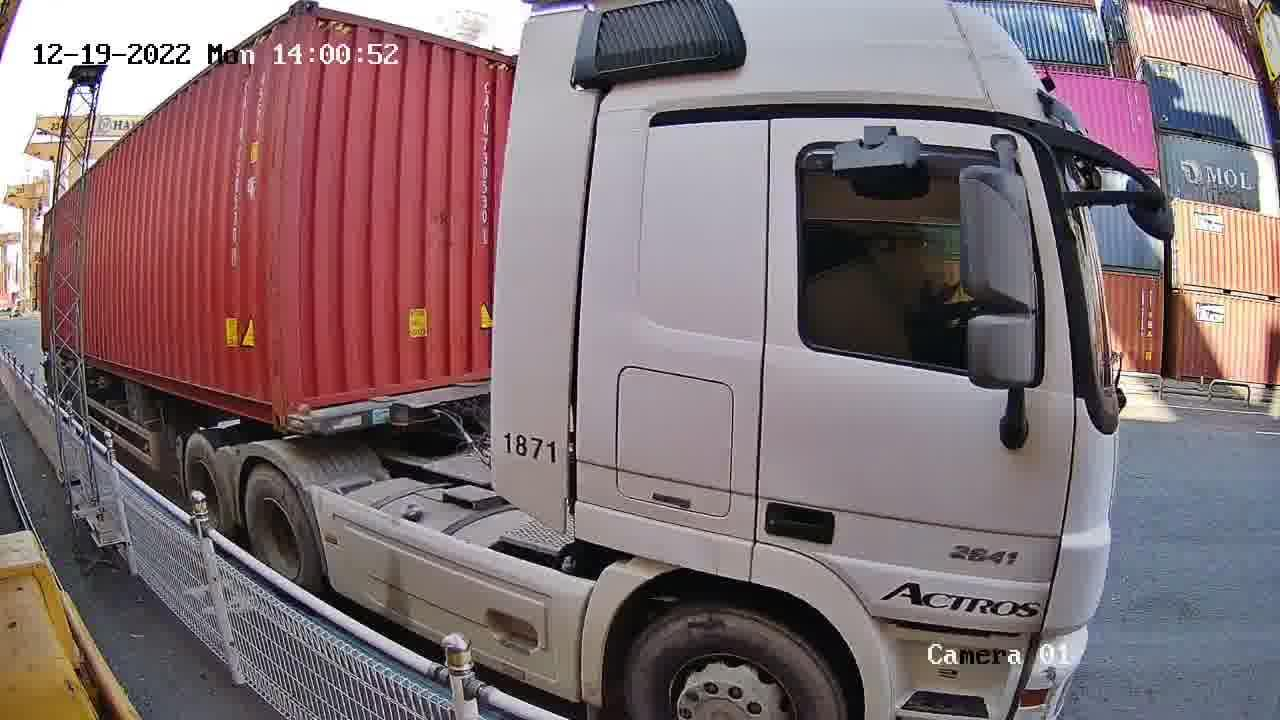Chassis: (290, 380, 492, 433)
Cone: (288, 403, 312, 431)
Hole_R: (252, 382, 287, 428)
Tire: (243, 467, 314, 586), (184, 437, 232, 532)
